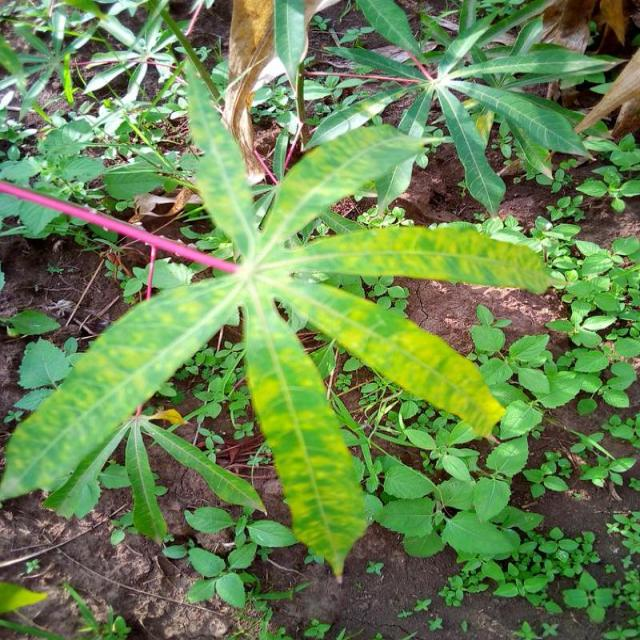cassava leaf: (1, 40, 554, 579)
